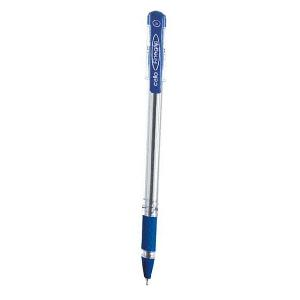pen: (137, 7, 170, 288)
